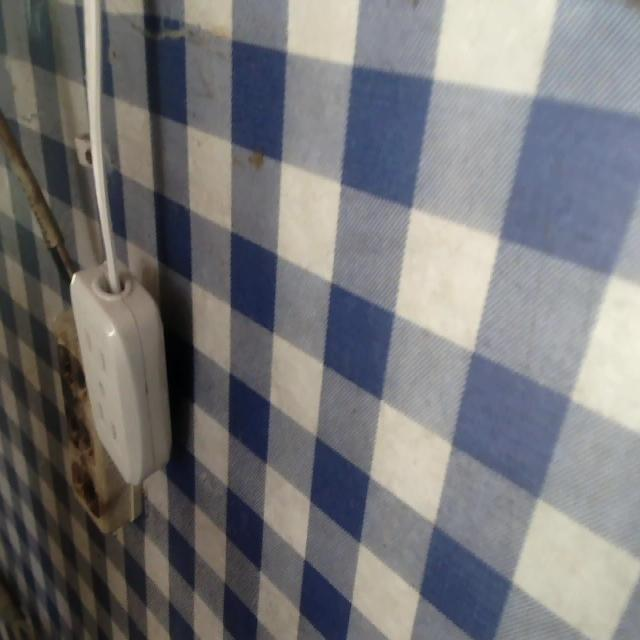-: (61, 398, 98, 458), (50, 343, 89, 392), (76, 462, 106, 514)
